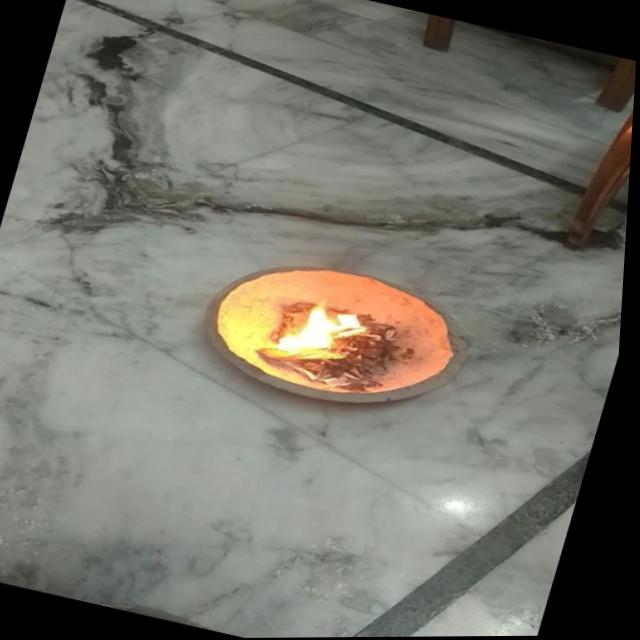fire: (262, 281, 391, 384)
